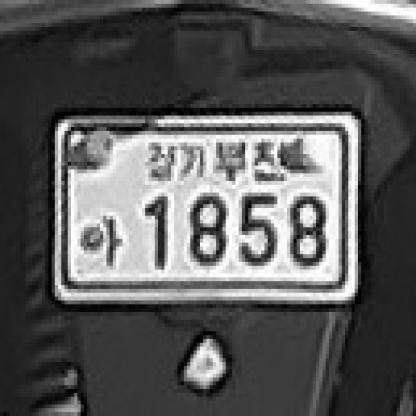bnum: (47, 104, 367, 311)
